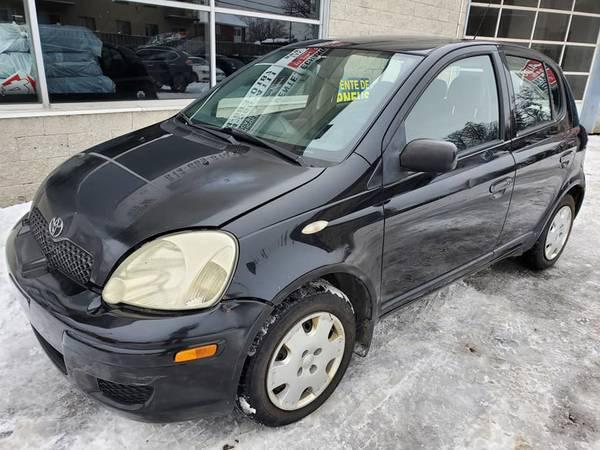Front_Bumper: (5, 216, 272, 421)
Front_Fender: (219, 154, 381, 345)
Front_Left_Door: (378, 145, 515, 316)
Front_Left_Window: (376, 56, 510, 184)
Front_Windshield: (175, 44, 420, 162)
Grille: (25, 203, 118, 288)
Hood: (30, 115, 330, 267)
Left_Headlight: (102, 227, 238, 312)
Rear_Left_Door: (491, 123, 588, 258)
Rear_Left_Window: (492, 60, 566, 144)
Roof: (283, 38, 576, 169)
Wheel: (241, 285, 355, 423), (538, 200, 576, 267)
